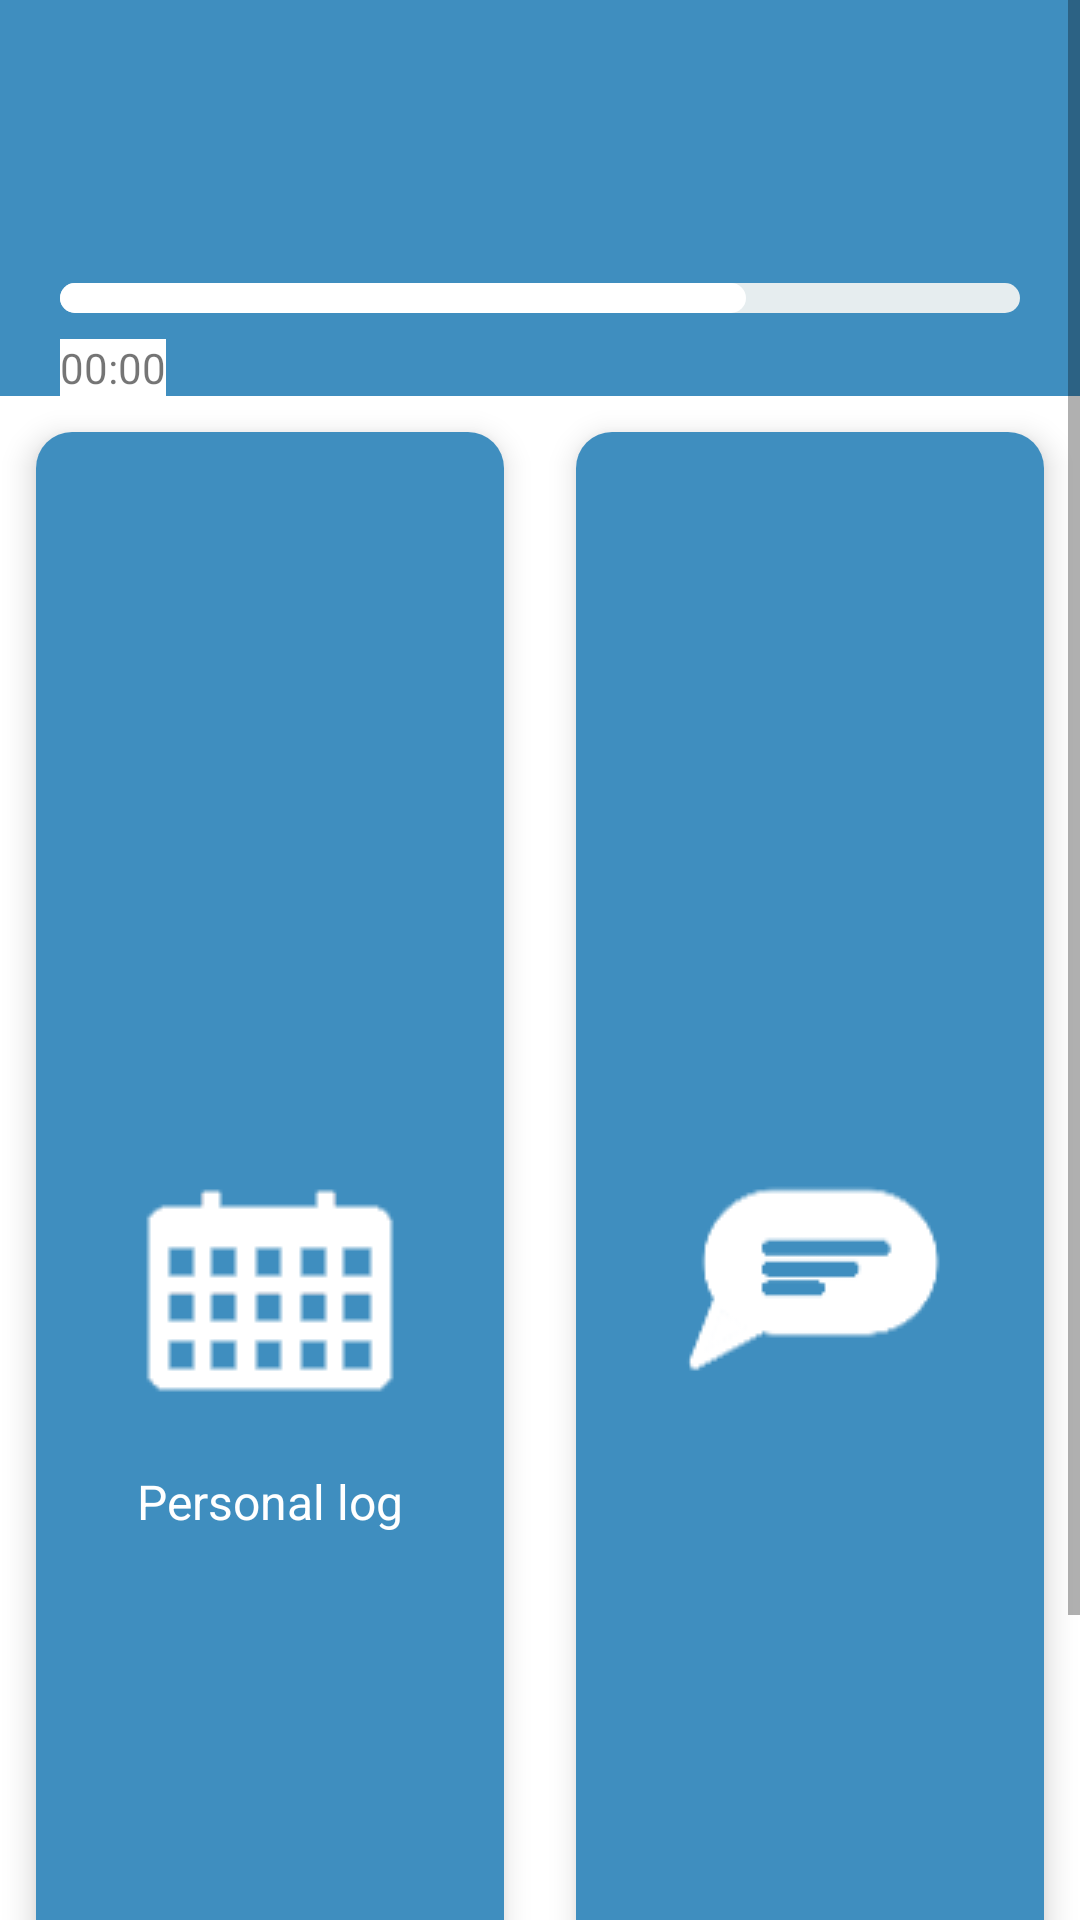

Named icons in this screenshot (1080px x 1920px) and their bounding boxes, bbox(x1, y1, x2, y2):
calendarpng: bbox(146, 1189, 394, 1392)
